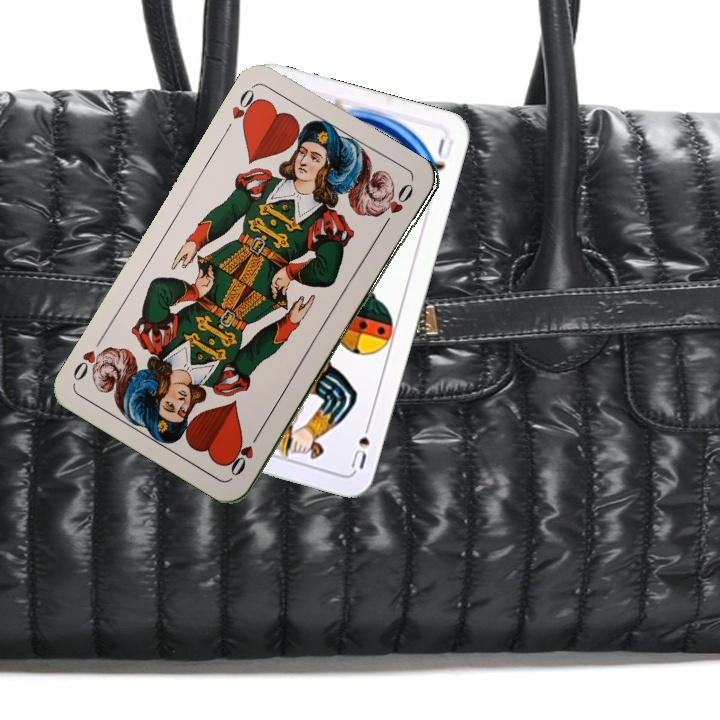HO: (226, 426, 264, 479), (227, 82, 264, 132)
SU: (346, 415, 374, 472)
